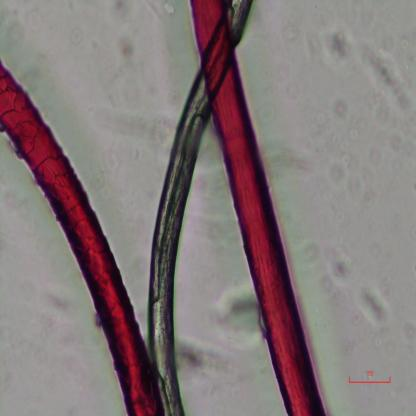Background material: (322, 90, 367, 202), (366, 44, 409, 115), (268, 134, 321, 190), (132, 104, 178, 156), (219, 291, 260, 339), (324, 26, 364, 72), (174, 336, 217, 378), (359, 282, 392, 332), (315, 234, 341, 284), (115, 32, 140, 67), (110, 1, 131, 25), (70, 24, 86, 45), (160, 3, 178, 18)
Hair textile: (0, 60, 166, 416)
Microfibre: (188, 1, 327, 415), (149, 0, 252, 414)
